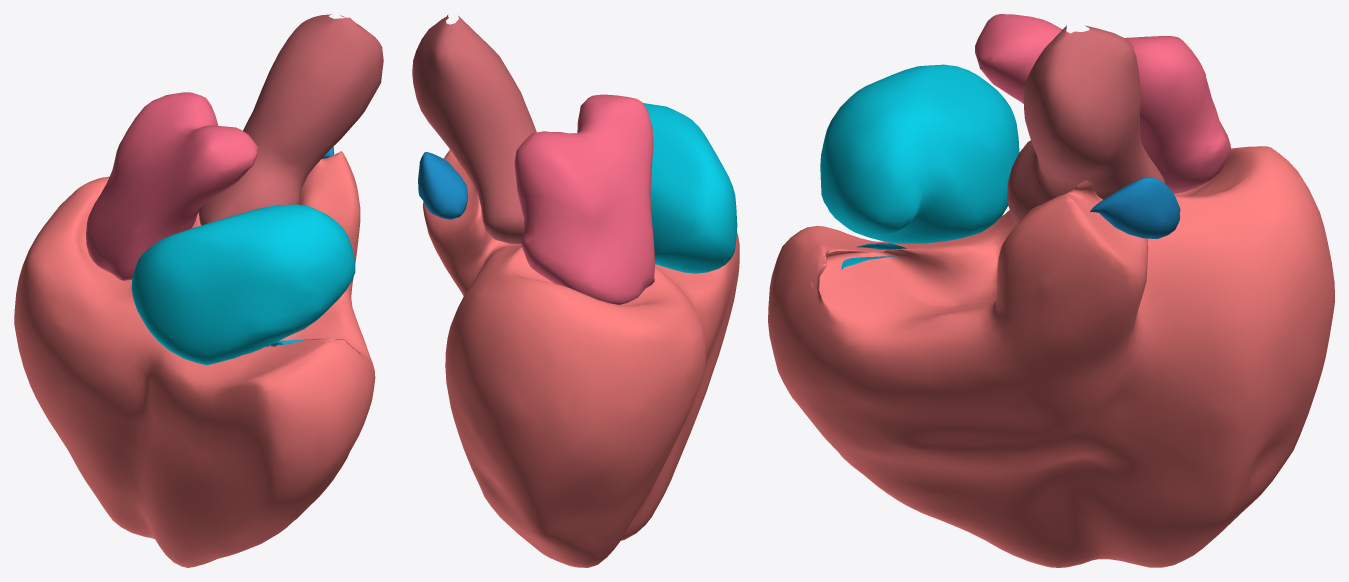
Rendered from frame_48.glb.
The picture shows the model from 3 angles, left to right: view 1: azimuth 30°, elevation 25°; view 2: azimuth 150°, elevation 25°; view 3: azimuth 270°, elevation 25°; orthographic projection. The views are drawn at different scales.
Visible parts, largest first — view 1: Renderer Node; view 2: Renderer Node; view 3: Renderer Node.
Part boxes in pixels (box(x1,y1,x2,y2)): Renderer Node: box(14, 14, 383, 567); Renderer Node: box(412, 14, 739, 567); Renderer Node: box(768, 14, 1334, 567).
Size of the model in its own units: 102 by 158 by 127.
